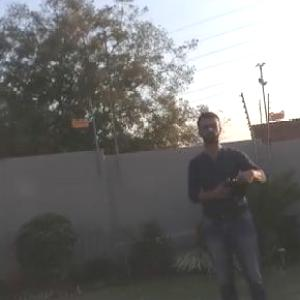follow: (182, 107, 274, 299)
